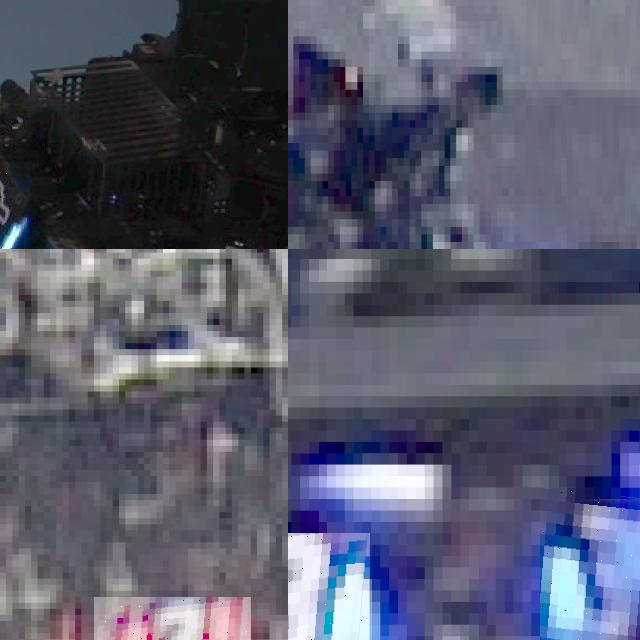B3: (540, 487, 640, 640), (288, 533, 371, 640)
Bs: (0, 161, 30, 249)
R2: (94, 596, 251, 640)
